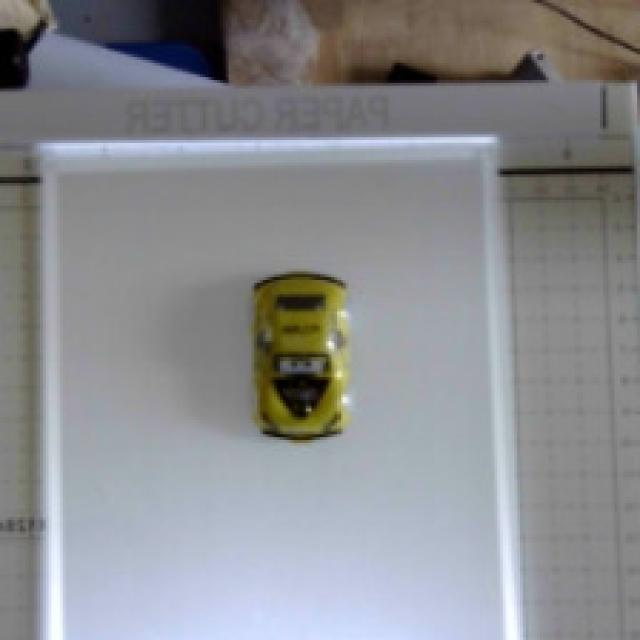Yellow Car: (210, 247, 428, 460)
